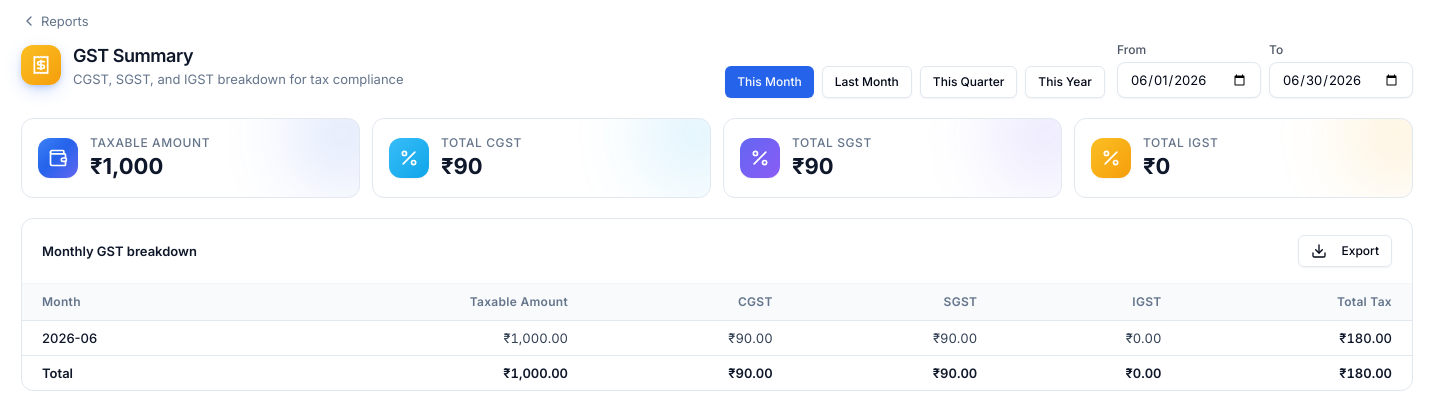
it: GstReportView › refetches and renders new data when the date range changes
Click the button "Last Month": [867, 82] box x1=822 y1=66 x2=912 y2=98
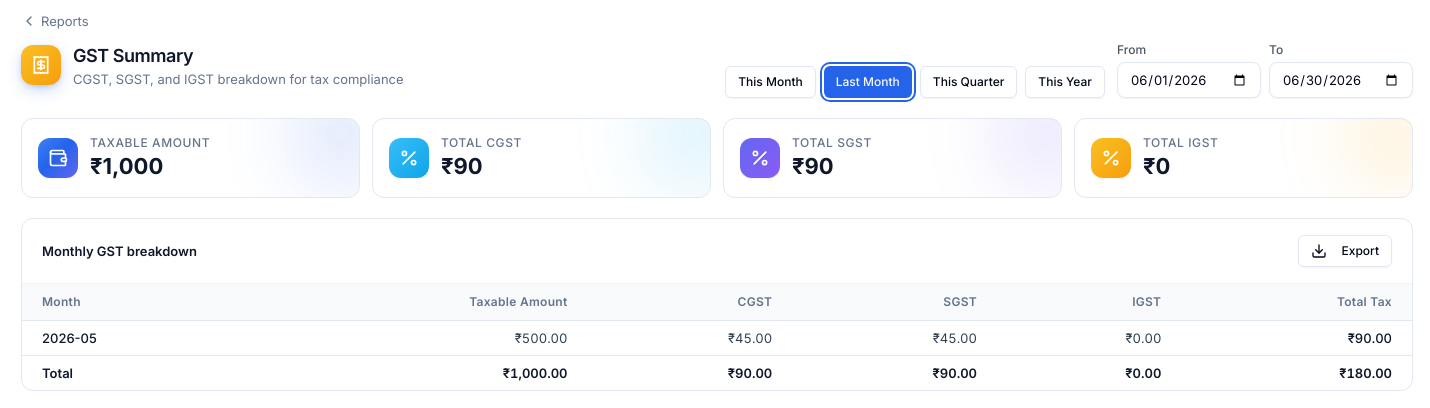
Now the text "2026-05" is shown, box x1=22 y1=320 x2=252 y2=355
